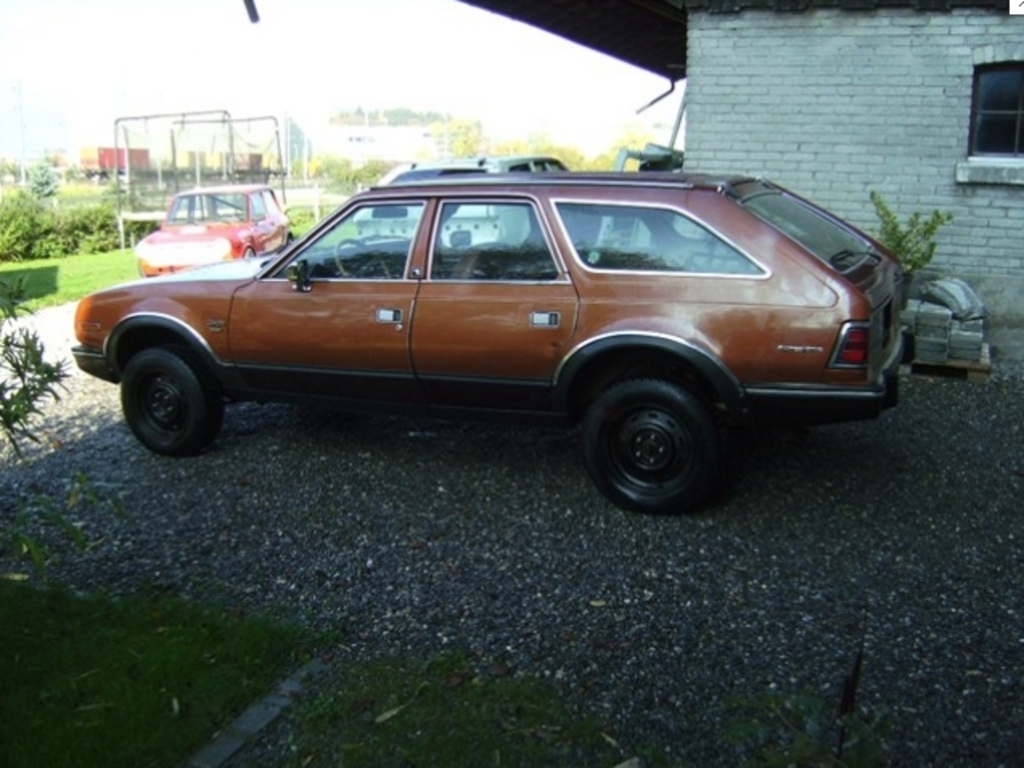Car: (85, 160, 932, 512), (353, 155, 565, 249), (128, 178, 300, 277)
